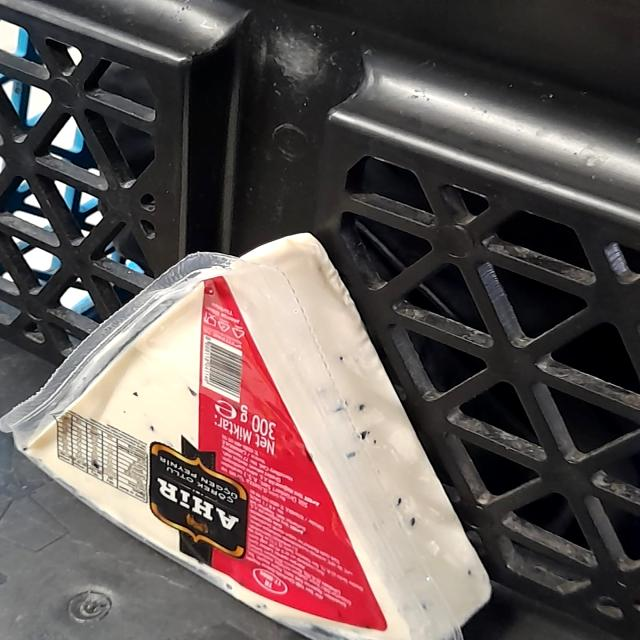cheese: (11, 266, 497, 640)
